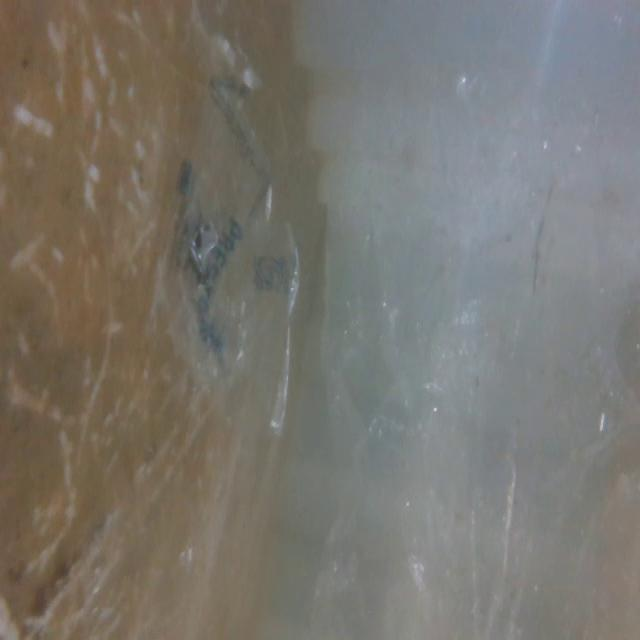plastic bags: (318, 27, 591, 619), (164, 56, 305, 474)
